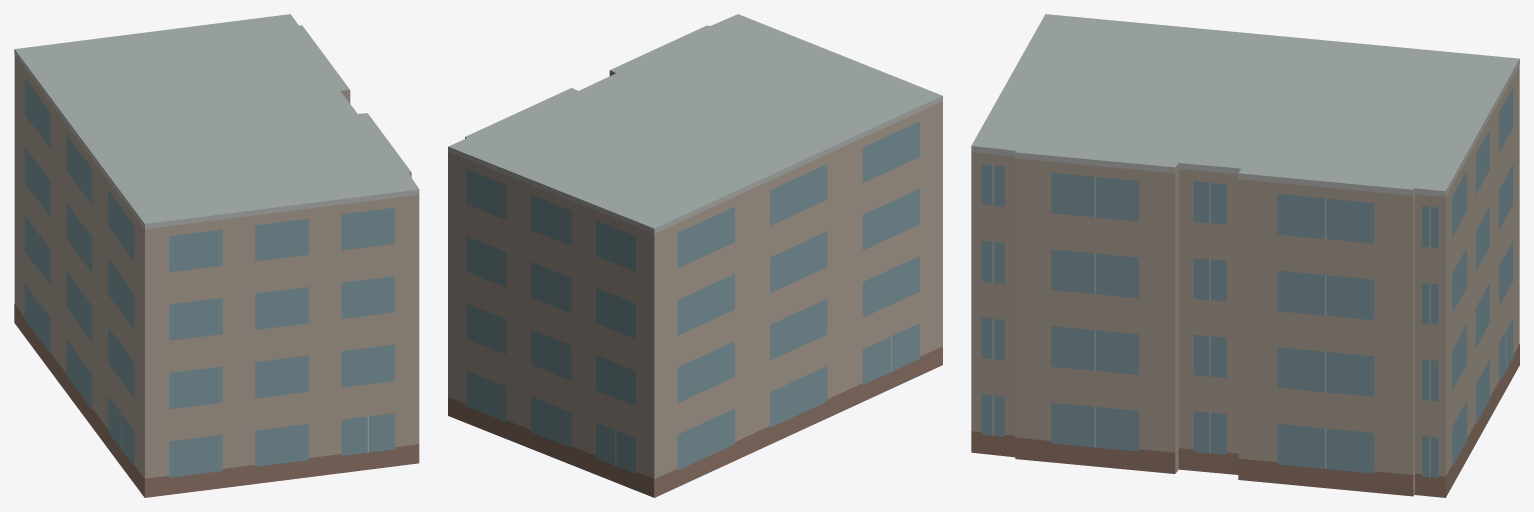
The model's file is survey-upis-32670075.glb.
3 renders of one model, left to right at view 1: azimuth 30°, elevation 25°; view 2: azimuth 150°, elevation 25°; view 3: azimuth 270°, elevation 25°, orthographic. The views are drawn at different scales.
Visible parts, largest first — view 1: survey-upis-32670075.tmp; view 2: survey-upis-32670075.tmp; view 3: survey-upis-32670075.tmp.
Part boxes in pixels (x1,y1,x2,y2): survey-upis-32670075.tmp: [14, 14, 419, 497]; survey-upis-32670075.tmp: [448, 14, 942, 497]; survey-upis-32670075.tmp: [971, 14, 1519, 497].
Bounding box in the file's own units: 15.63 × 12.6 × 20.44.
